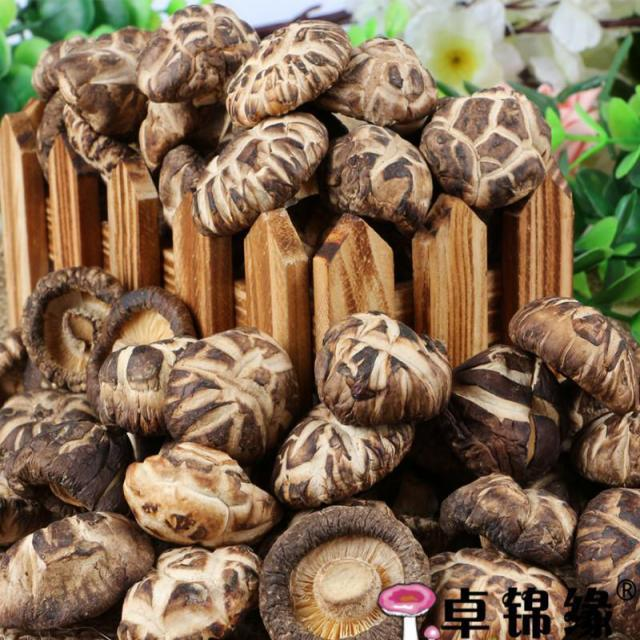Lentinus edodes: (0, 260, 640, 640), (27, 5, 551, 233)
